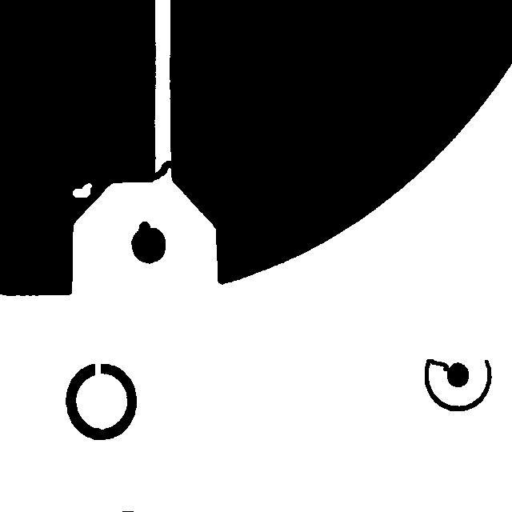open: (87, 354, 108, 384)
pin-hole: (65, 175, 99, 205)
short: (144, 153, 182, 187), (418, 351, 459, 379)
spur: (130, 214, 158, 243)
